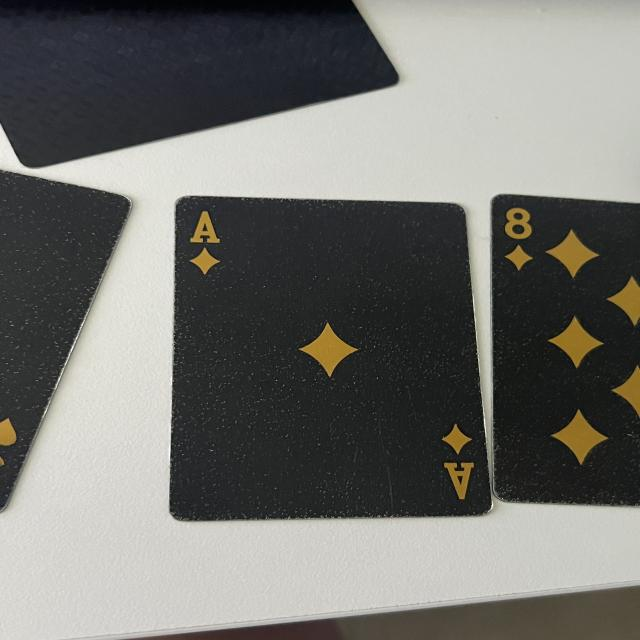8D: (494, 204, 534, 281)
AD: (436, 416, 485, 507), (184, 208, 232, 274)
BACK: (0, 0, 413, 173)
